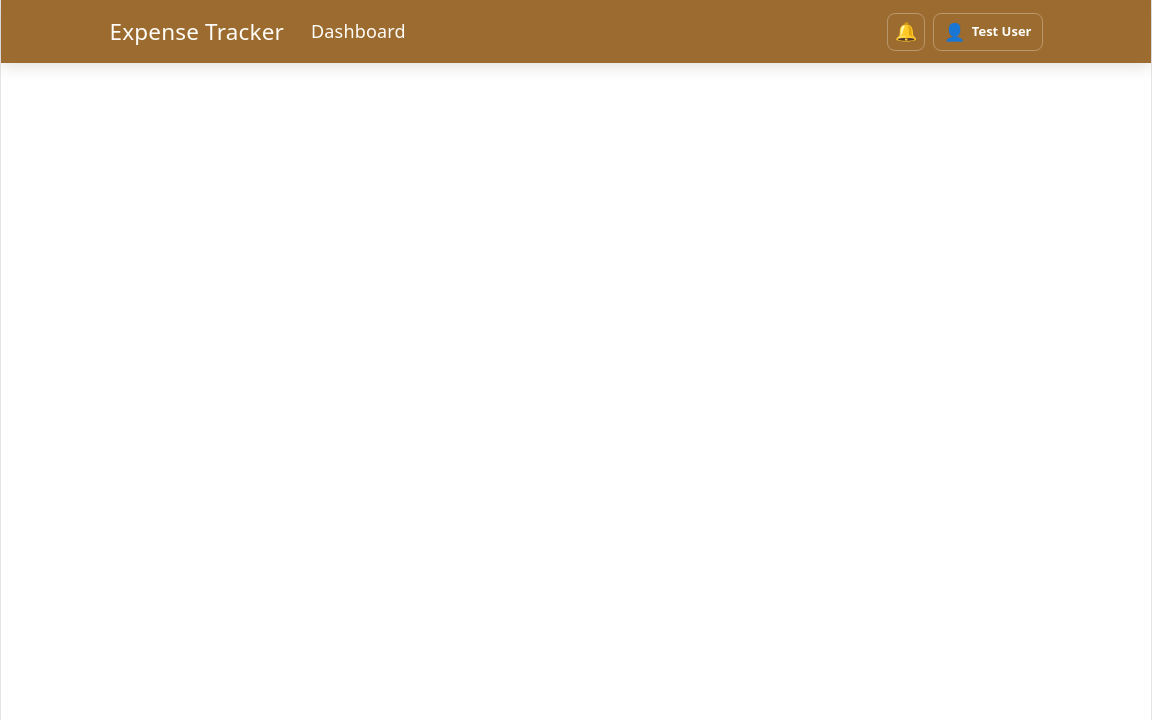
Scenario: Navbar › renders navigation and exposes notifications
expect the link "Expense Tracker" is shown: met, box x1=110 y1=9 x2=284 y2=54
expect the link "Dashboard" is shown: met, box x1=311 y1=19 x2=406 y2=43
Click the button named "Notifications" at coordinates (906, 32), box x1=887 y1=12 x2=925 y2=50
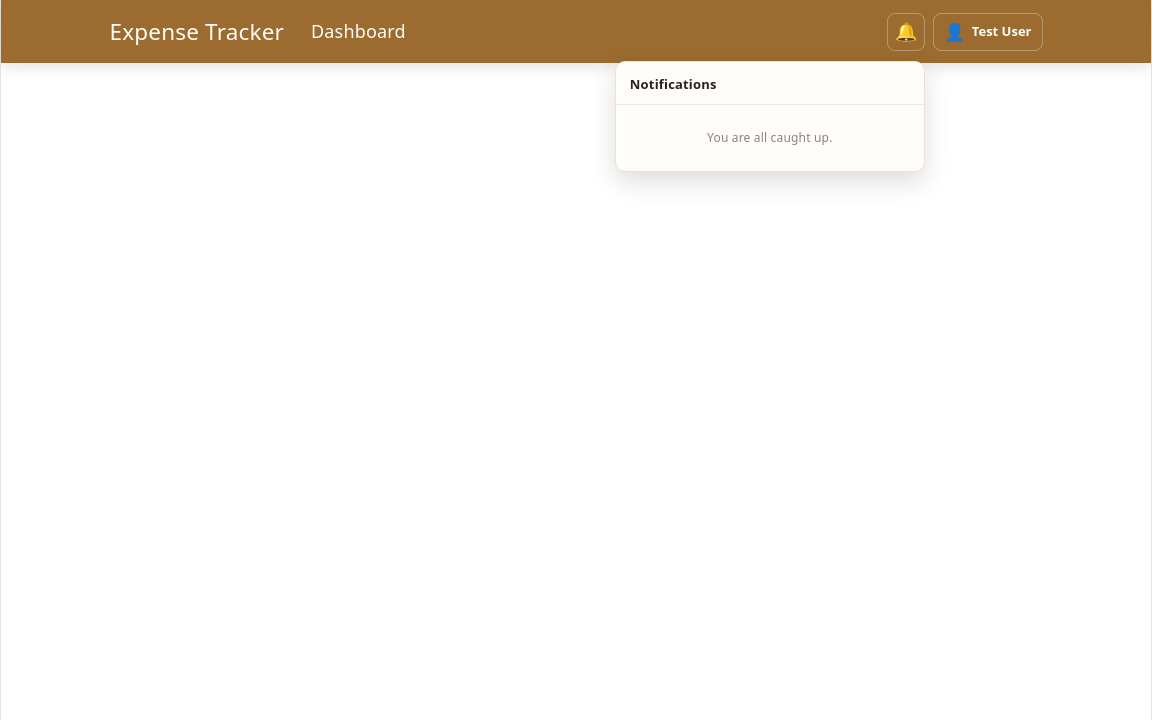
expect the text "You are all caught up." is shown: met, box x1=707 y1=129 x2=833 y2=146
